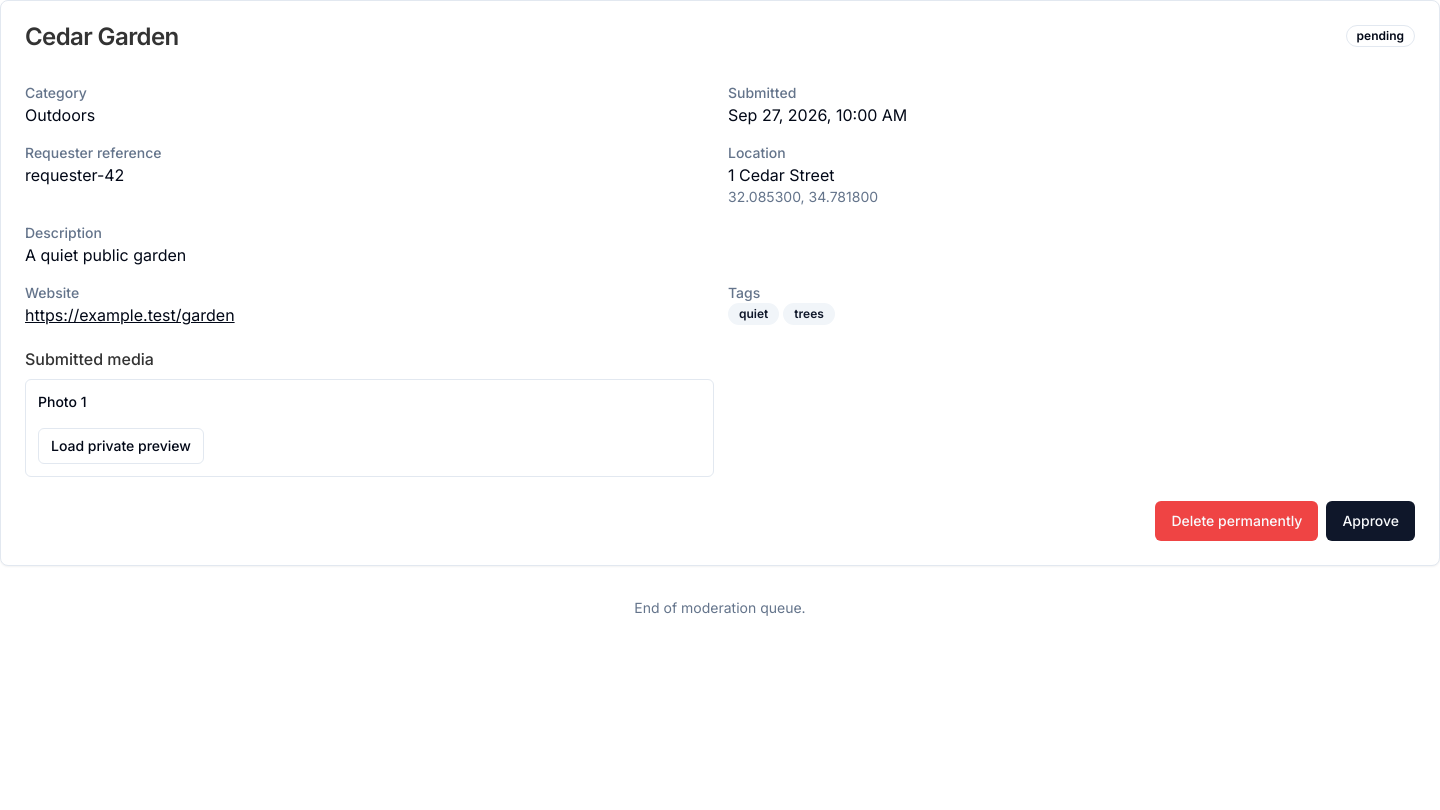
requires one administrator confirmation and prevents duplicate deletion
Click the button "Delete permanently".
click(1237, 521)  # box [1155, 501, 1318, 541]
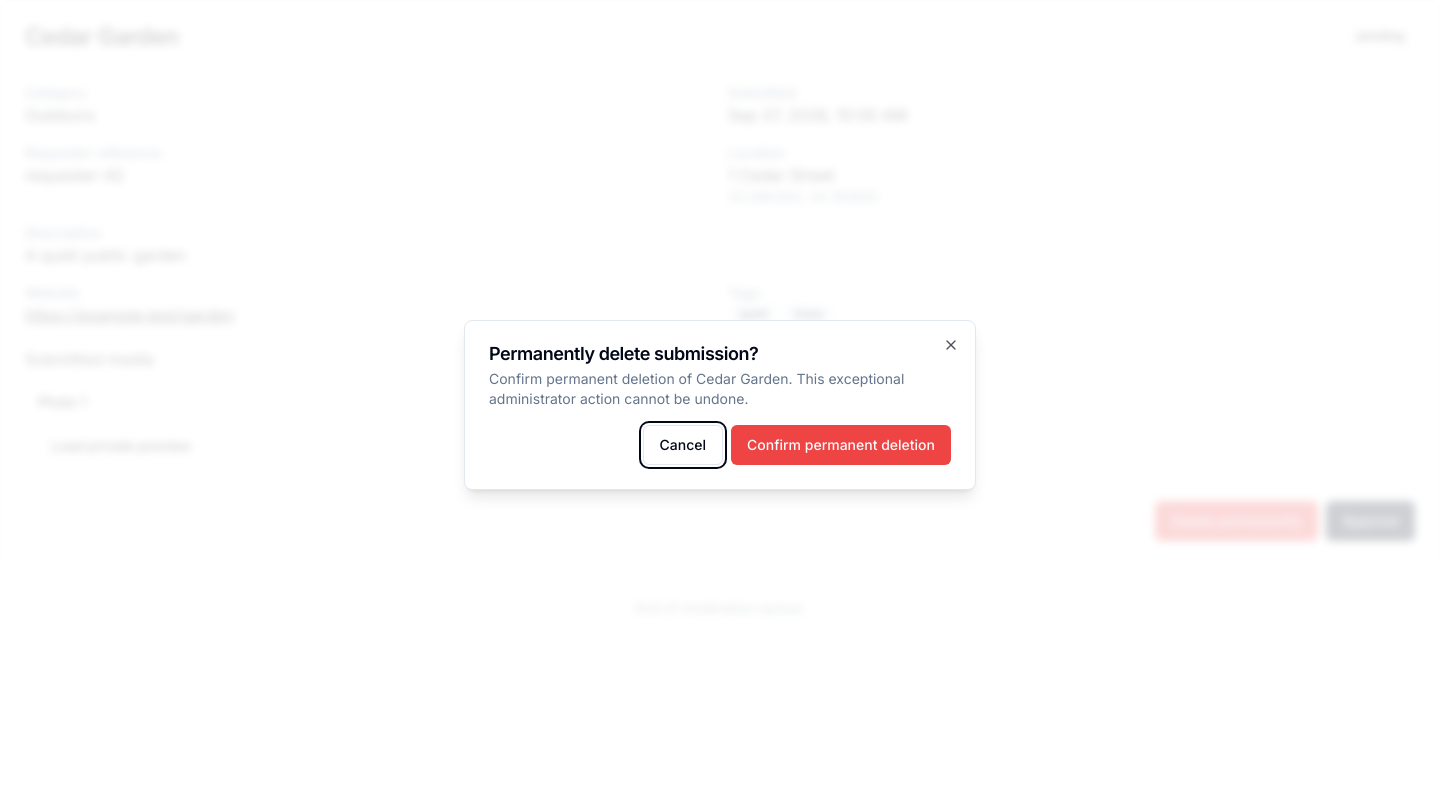
Expected: the heading "Permanently delete submission?" is shown, [489, 343, 758, 364]
Click the button "Confirm permanent deletion".
click(841, 445)  # box [731, 425, 951, 465]
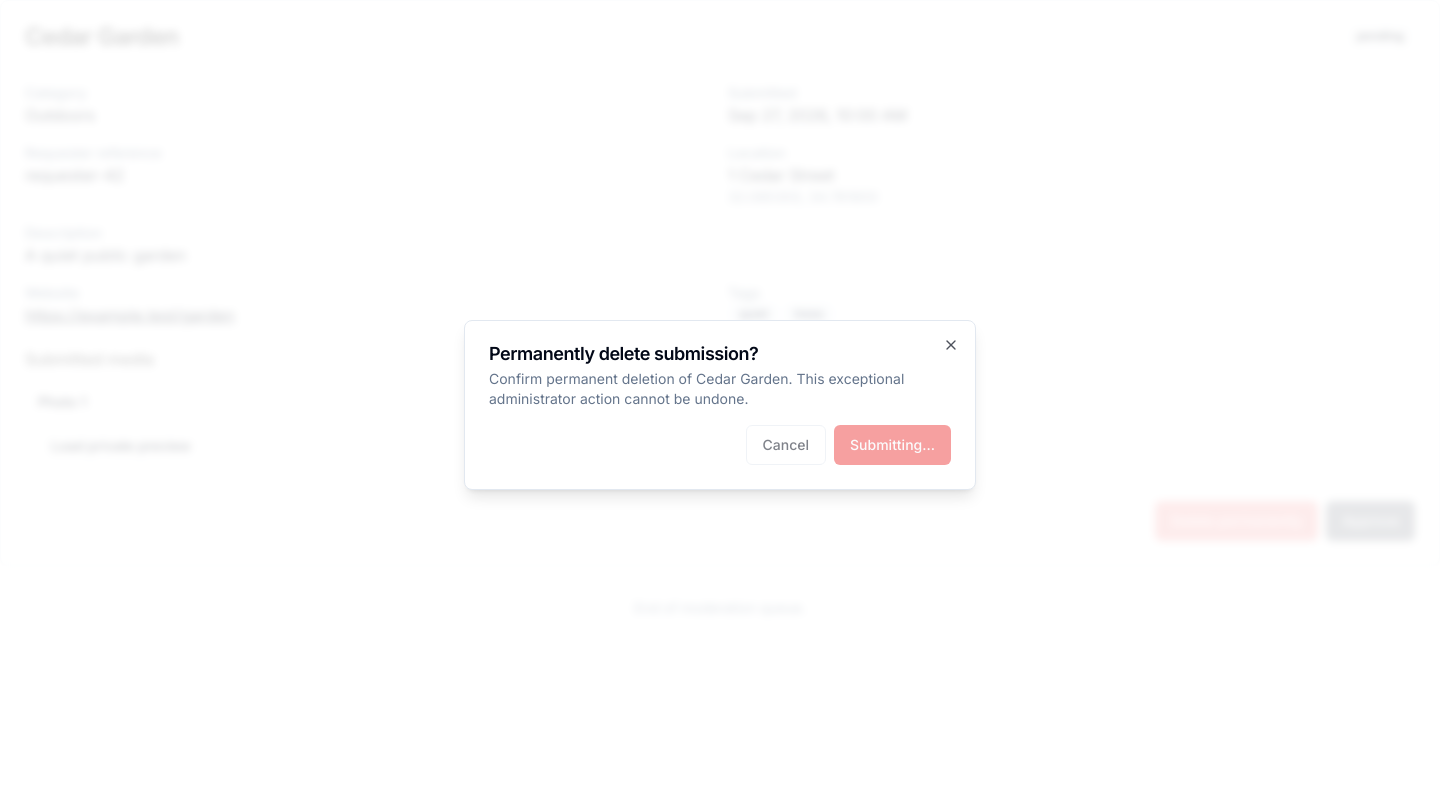
Click the button named "Confirm permanent deletion".
click(893, 445)  # box [834, 425, 951, 465]
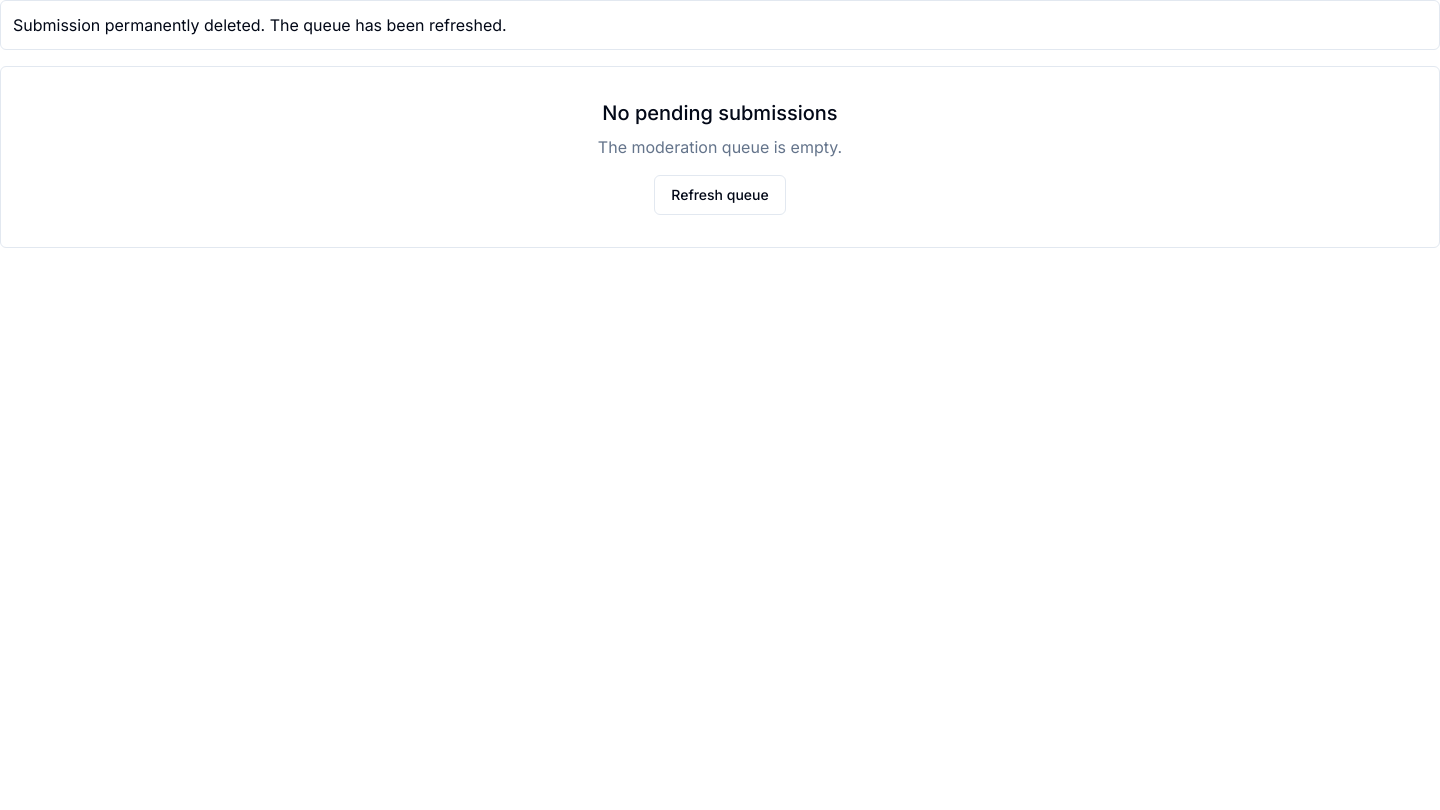
Expected: the heading "No pending submissions" is shown, [602, 101, 838, 125]
